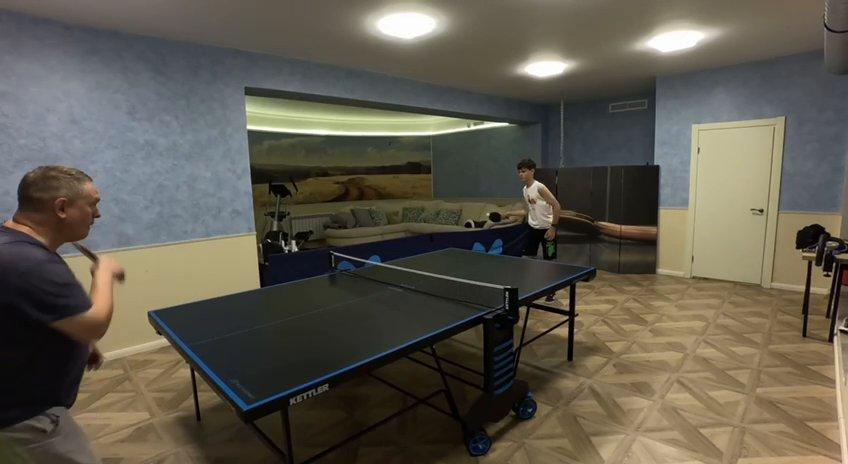Ball: (486, 212, 492, 218)
Net: (327, 251, 515, 308)
Player1: (518, 159, 558, 259)
Player2: (0, 165, 124, 463)
Table: (149, 247, 594, 409)
